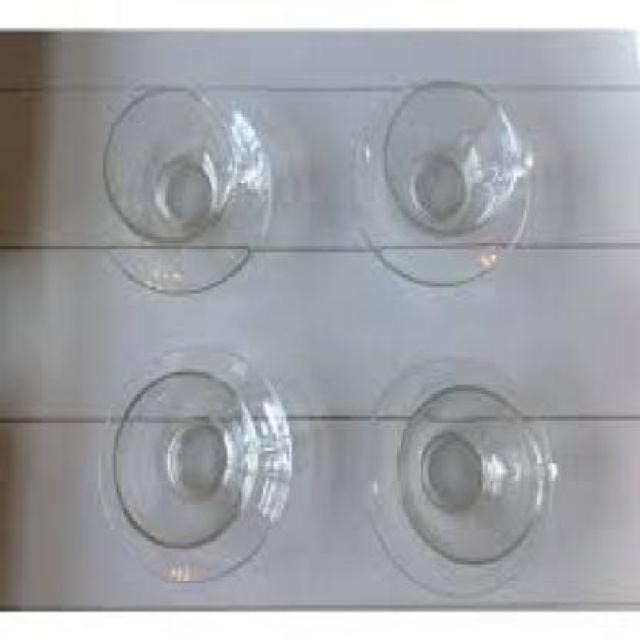kaca: (91, 340, 289, 577), (358, 357, 556, 589), (351, 69, 532, 280), (94, 82, 269, 290), (397, 384, 548, 562), (111, 370, 258, 538), (380, 78, 526, 237), (103, 88, 235, 237)
